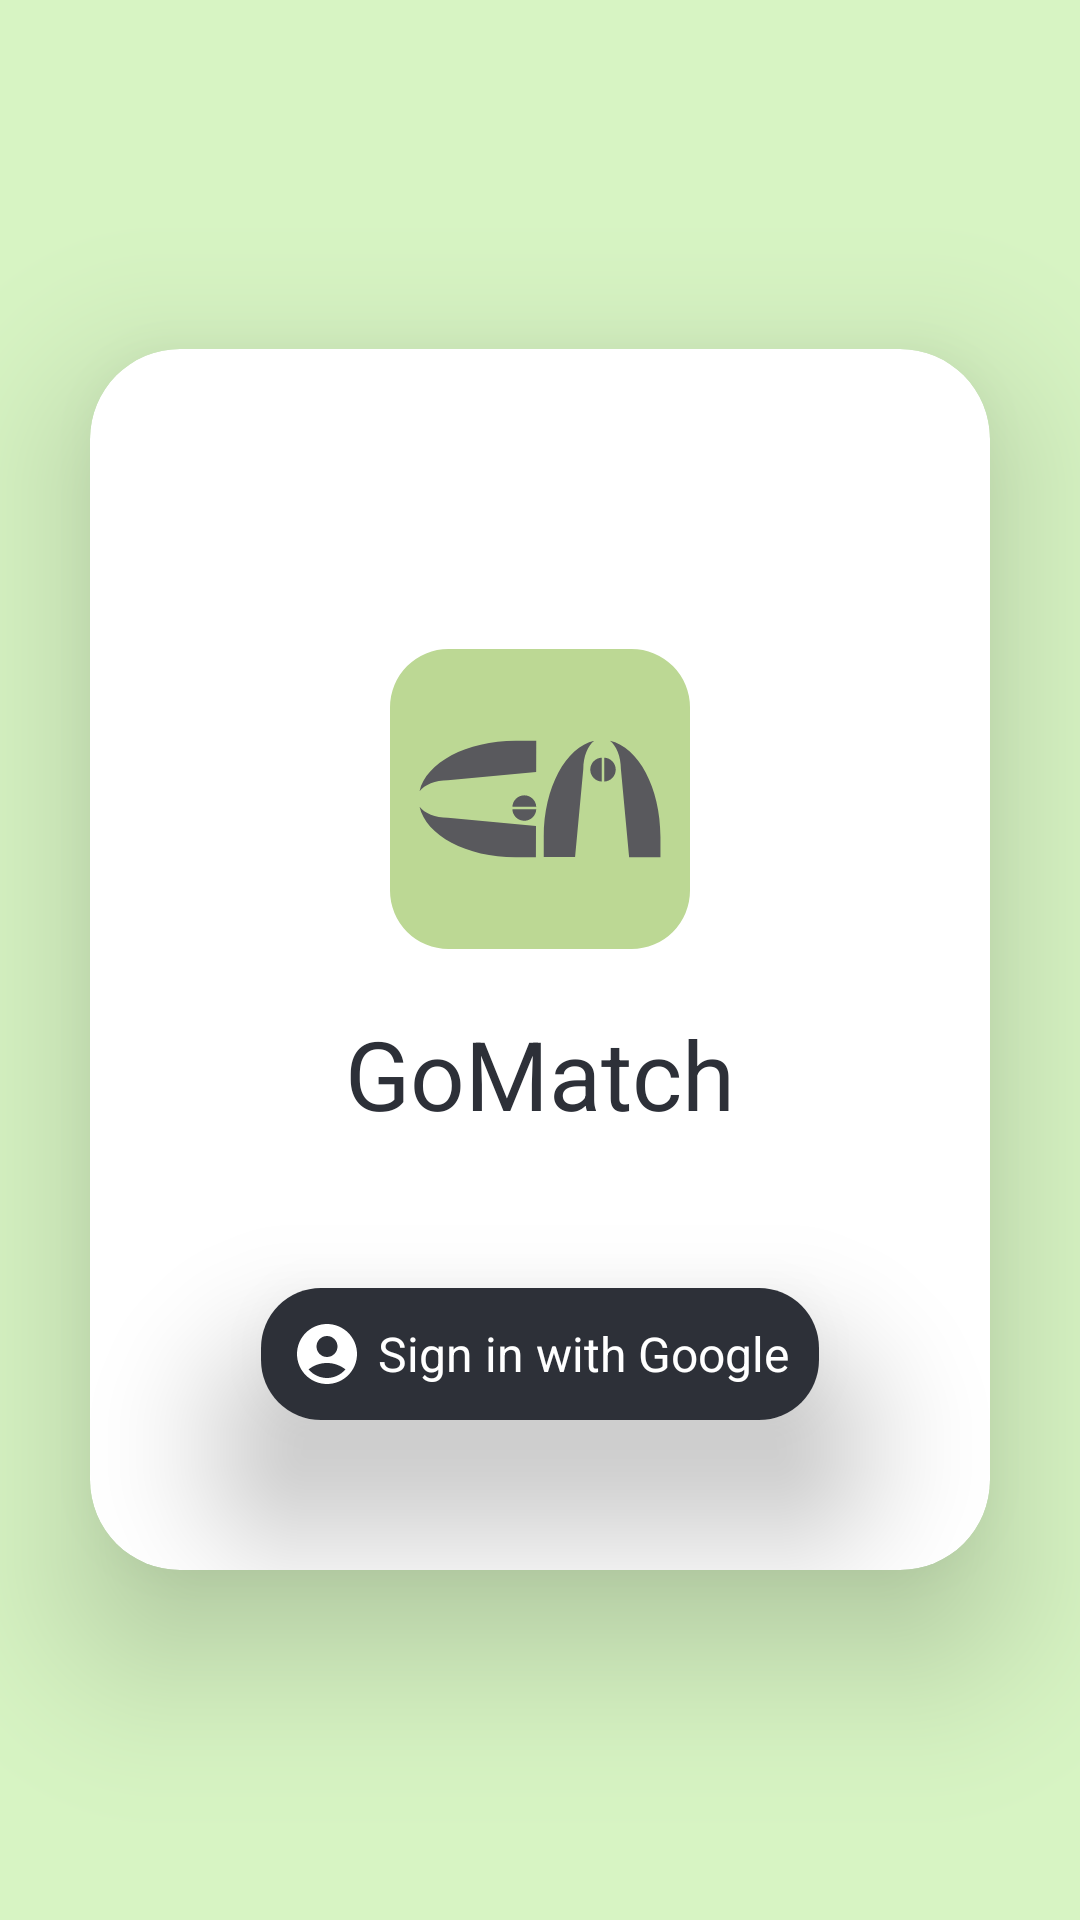

Icons on this 1080 × 1920 Android screen, each with the point to tap as point (x, y):
account circle: point (327, 1354)
